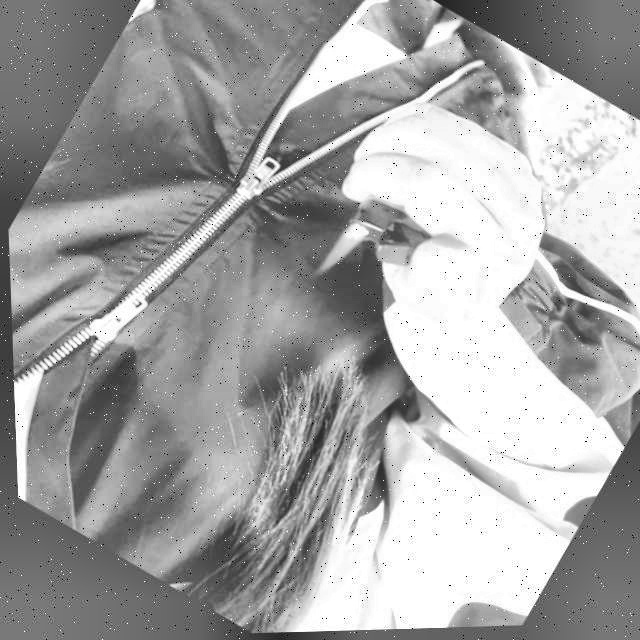Fire: (313, 222, 364, 283)
